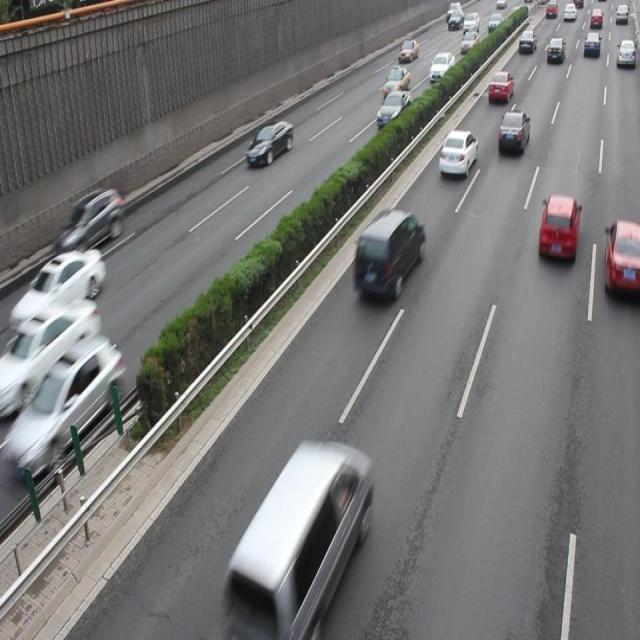car: (8, 339, 123, 466), (0, 292, 99, 416), (9, 244, 105, 337), (353, 210, 424, 298), (50, 190, 123, 250), (537, 193, 579, 263), (602, 218, 640, 294), (247, 120, 294, 170), (439, 129, 477, 174), (496, 108, 530, 154), (376, 88, 411, 125)
truck: (221, 436, 372, 640)
